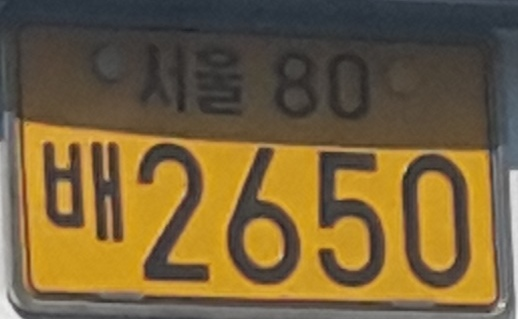0: (399, 152, 473, 290), (326, 49, 372, 118)
2: (136, 140, 210, 283)
5: (315, 149, 387, 289)
6: (222, 147, 303, 285)
8: (272, 52, 321, 120)
배: (41, 139, 125, 242)
서울_H: (140, 43, 246, 115)
